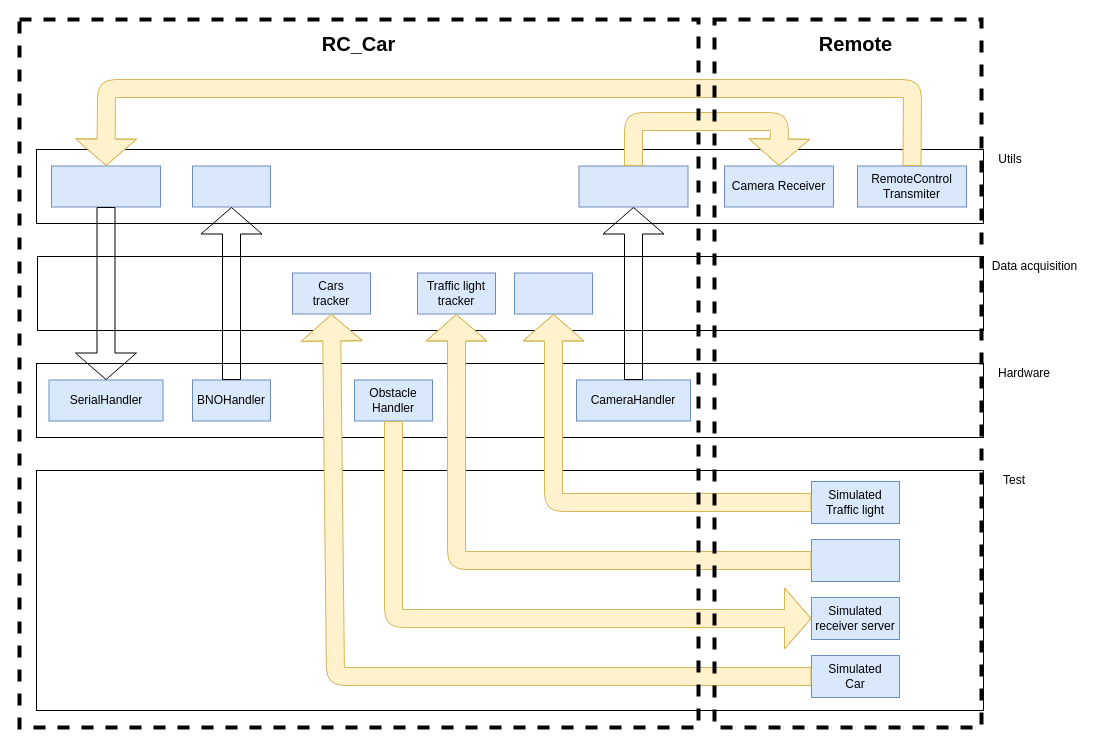
This 1100x746 diagram has some shape labels left out. The shapes that lost their labels are listed below. From the top down, each one's centre as x and y in pixels, then its label:
At point 105,186: "RemoteControl receiver".
At point 231,186: "BNO displayer".
At point 633,186: "Camera Streamer".
At point 553,293: "GPS tracker".
At point 855,560: "Simulated GPS server".
